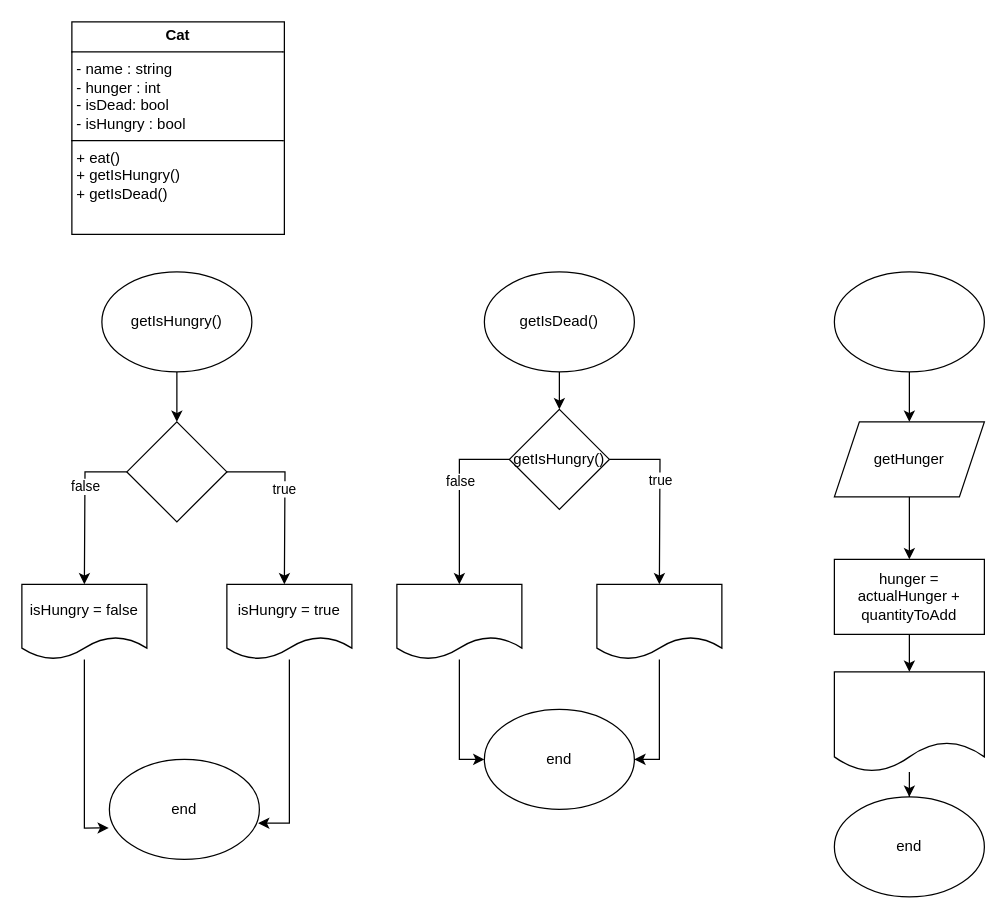
This 1006x919 diagram has some shape labels left out. Each missing label, with the box of its shape:
actualHunger = hunger: (833, 671, 984, 772)
eat(): (833, 271, 984, 372)
hunger <= 0: (126, 421, 227, 522)
isDead = false: (396, 583, 522, 659)
isDead = true: (596, 583, 722, 659)
